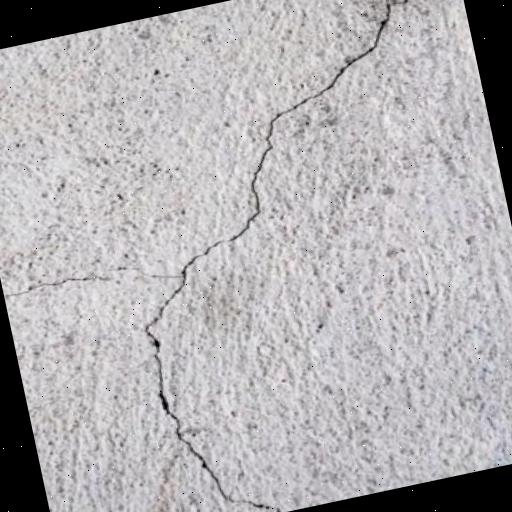spalling: (136, 0, 417, 512)
